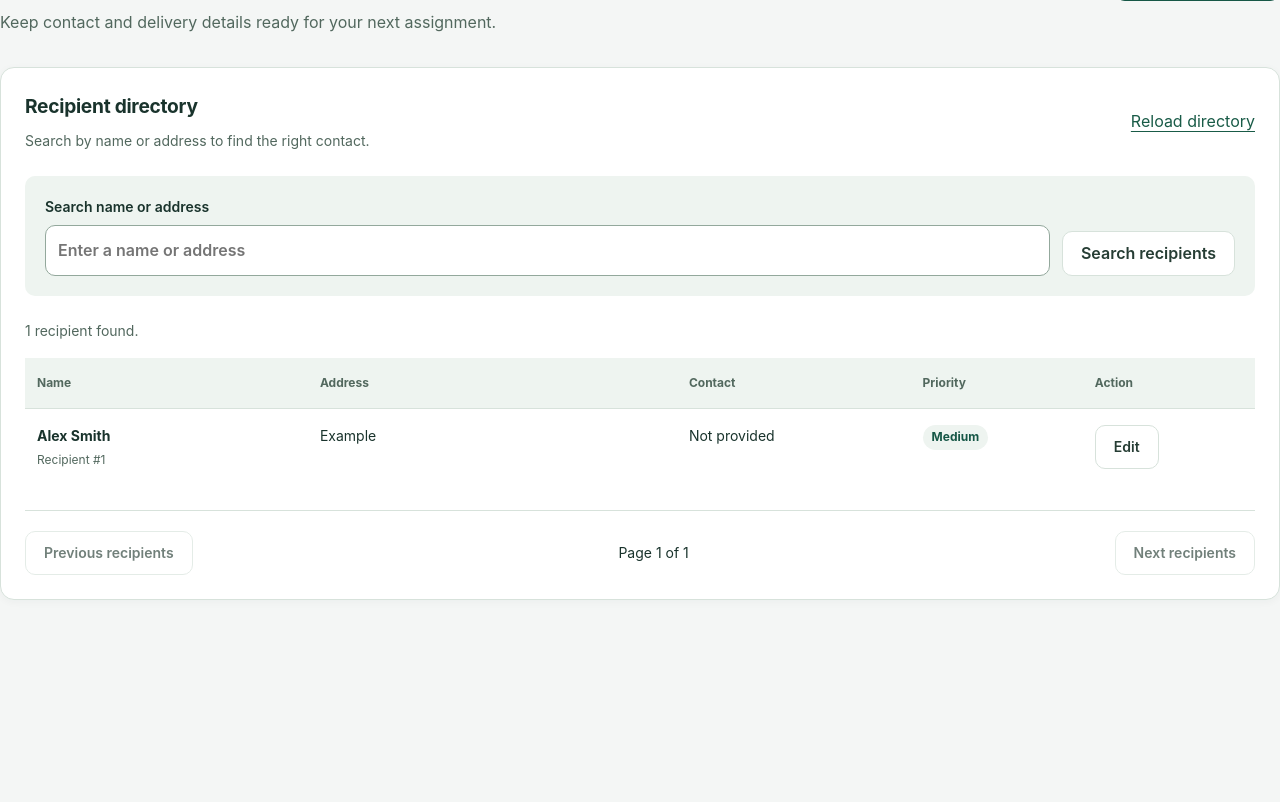
recipient management › blocks resubmission after 409 until explicit reload
Expected: the text "Alex Smith" is shown, [37,427,110,444]
Click the button with aria-label "Edit Alex Smith" at (1127, 447), box [1095,425,1159,469]
(page scrolled)
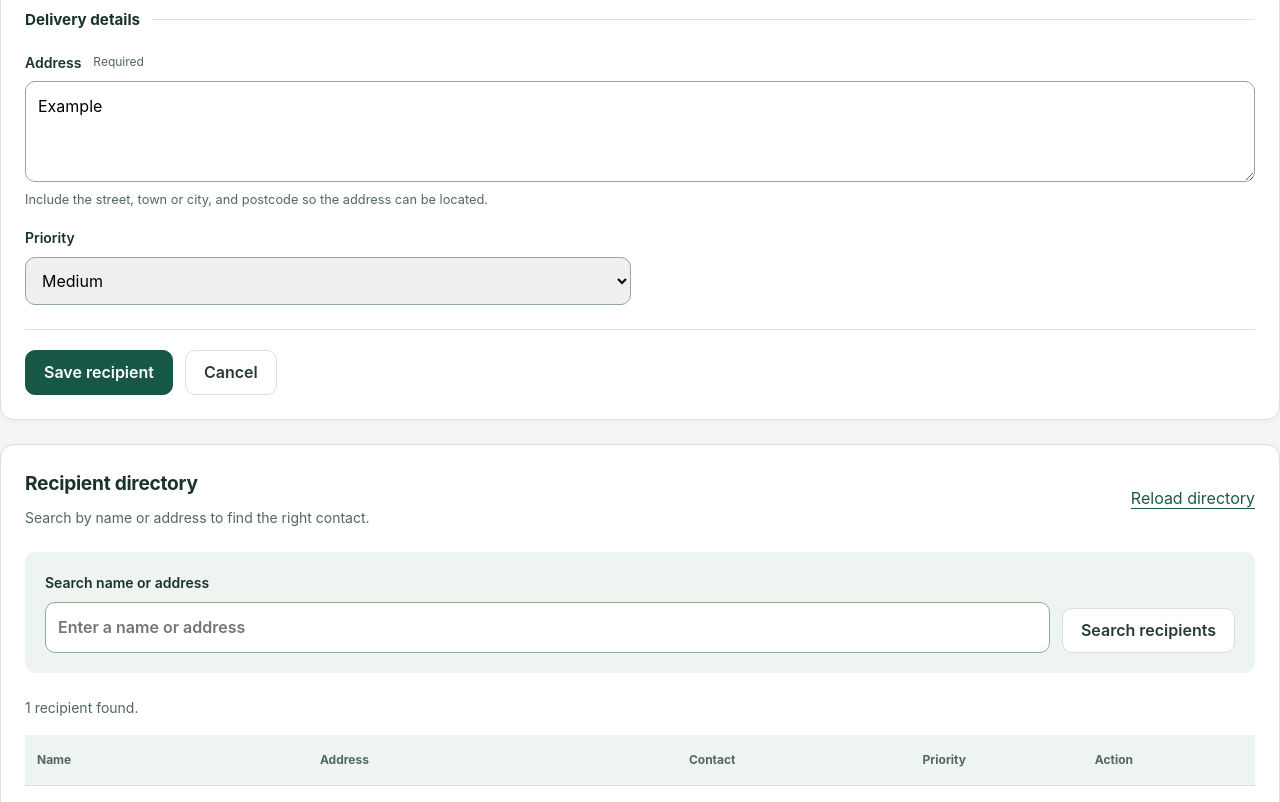
Click the button "Save recipient" at (99, 373), box [25,350,173,395]
(page scrolled)
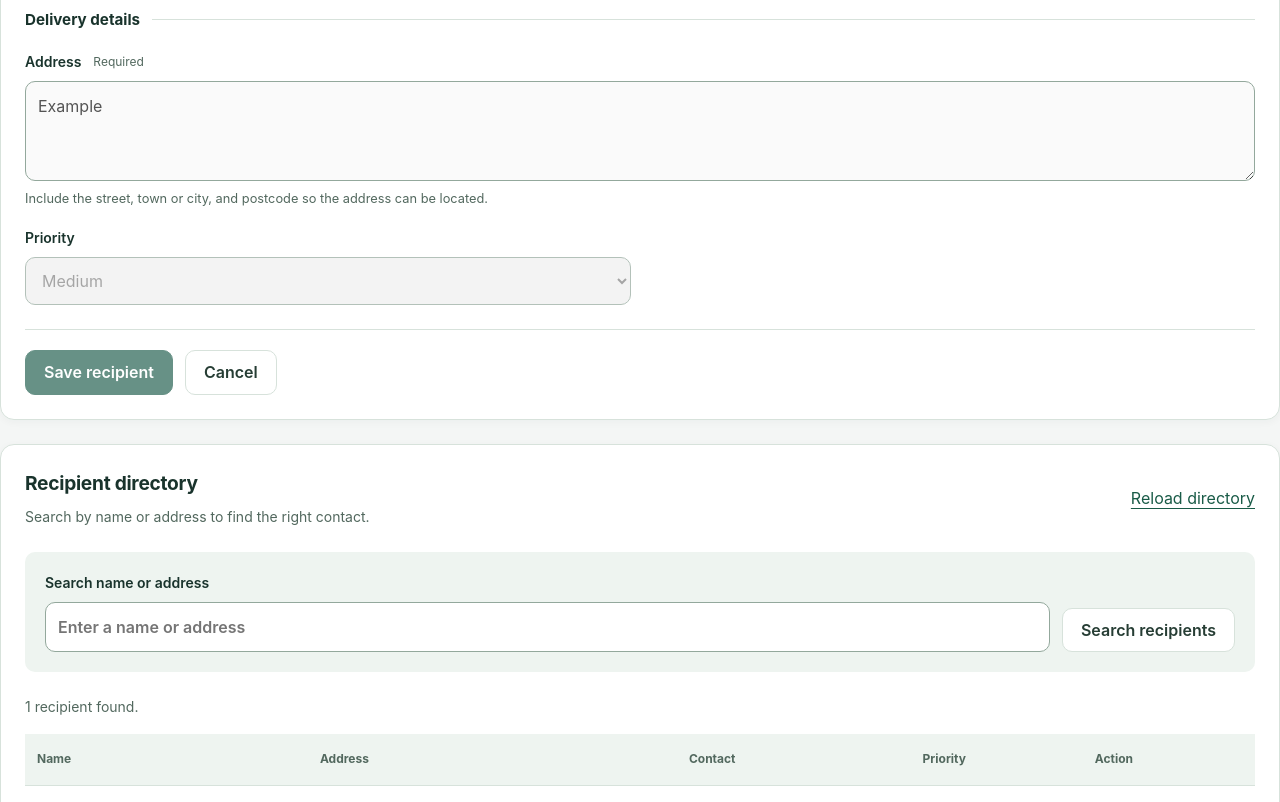
Expected: the button "Save recipient" is disabled, [25,350,173,395]
Click the button "Reload directory" at (1193, 498), box [1131,476,1255,520]
(page scrolled)
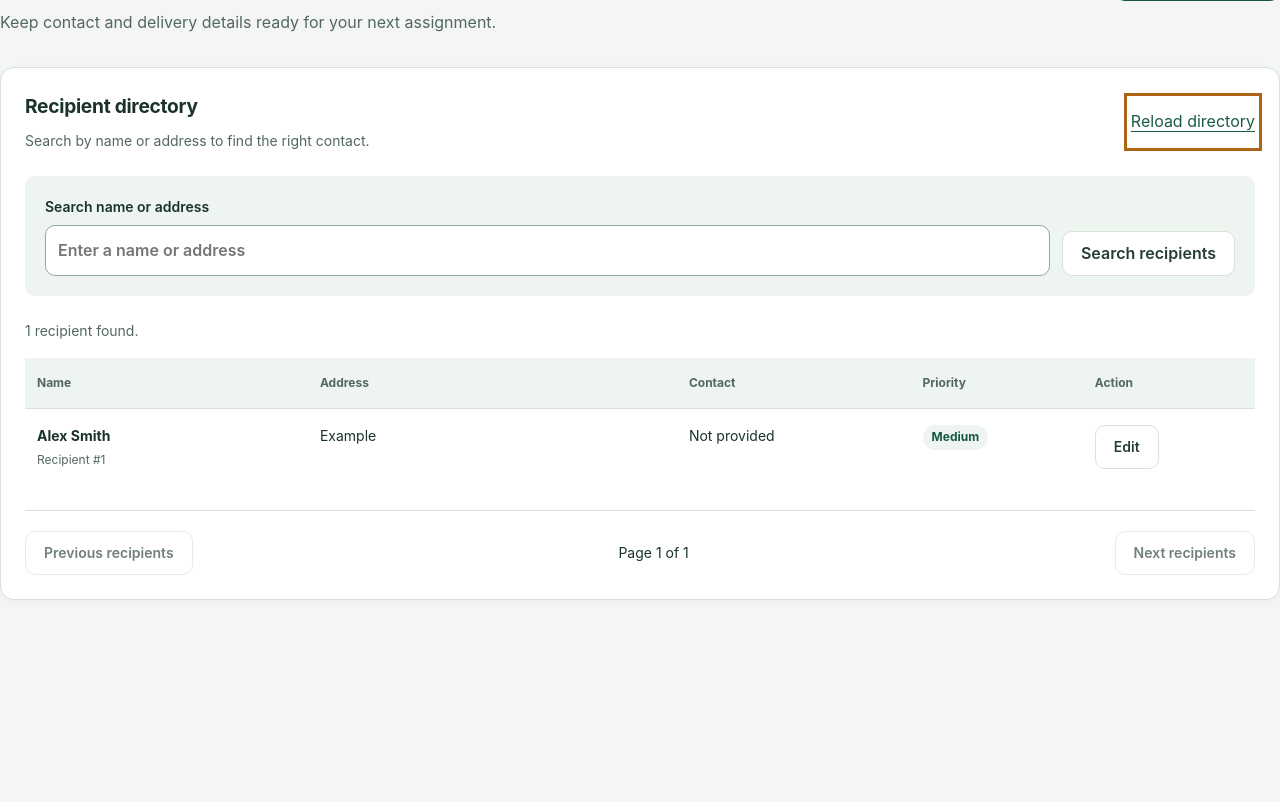
Expected: the text "Alex Smith" is shown, [37,427,110,444]
Click the button with aria-label "Edit Alex Smith" at (1127, 447), box [1095,425,1159,469]
(page scrolled)
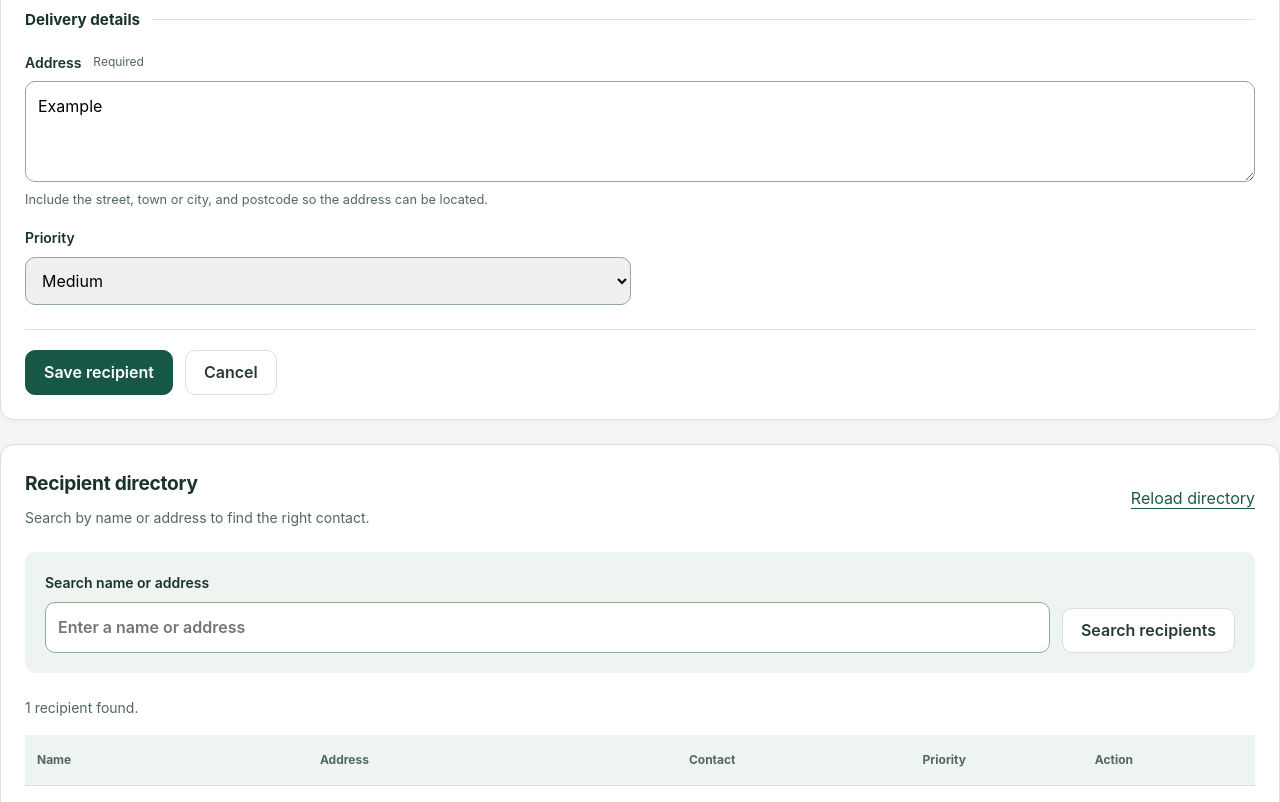
Expected: the button "Save recipient" is enabled, [25,350,173,395]
